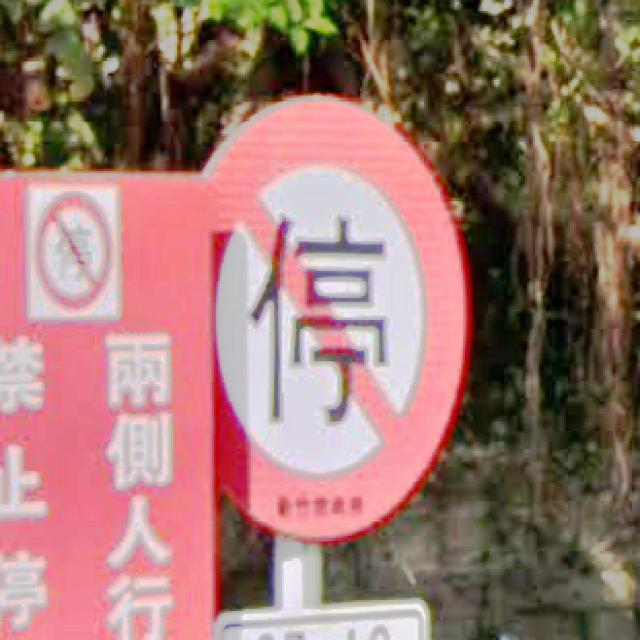nopark: (198, 91, 471, 542)
